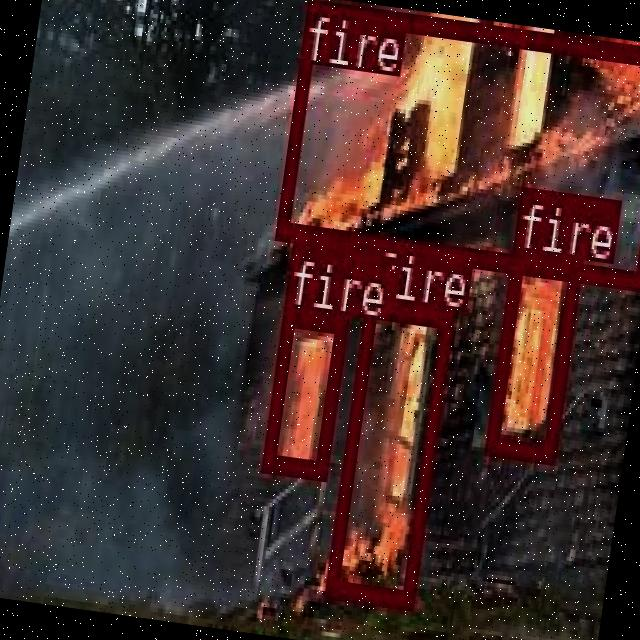fire: (274, 0, 640, 285), (322, 294, 453, 604), (484, 248, 580, 458), (260, 304, 345, 476)
